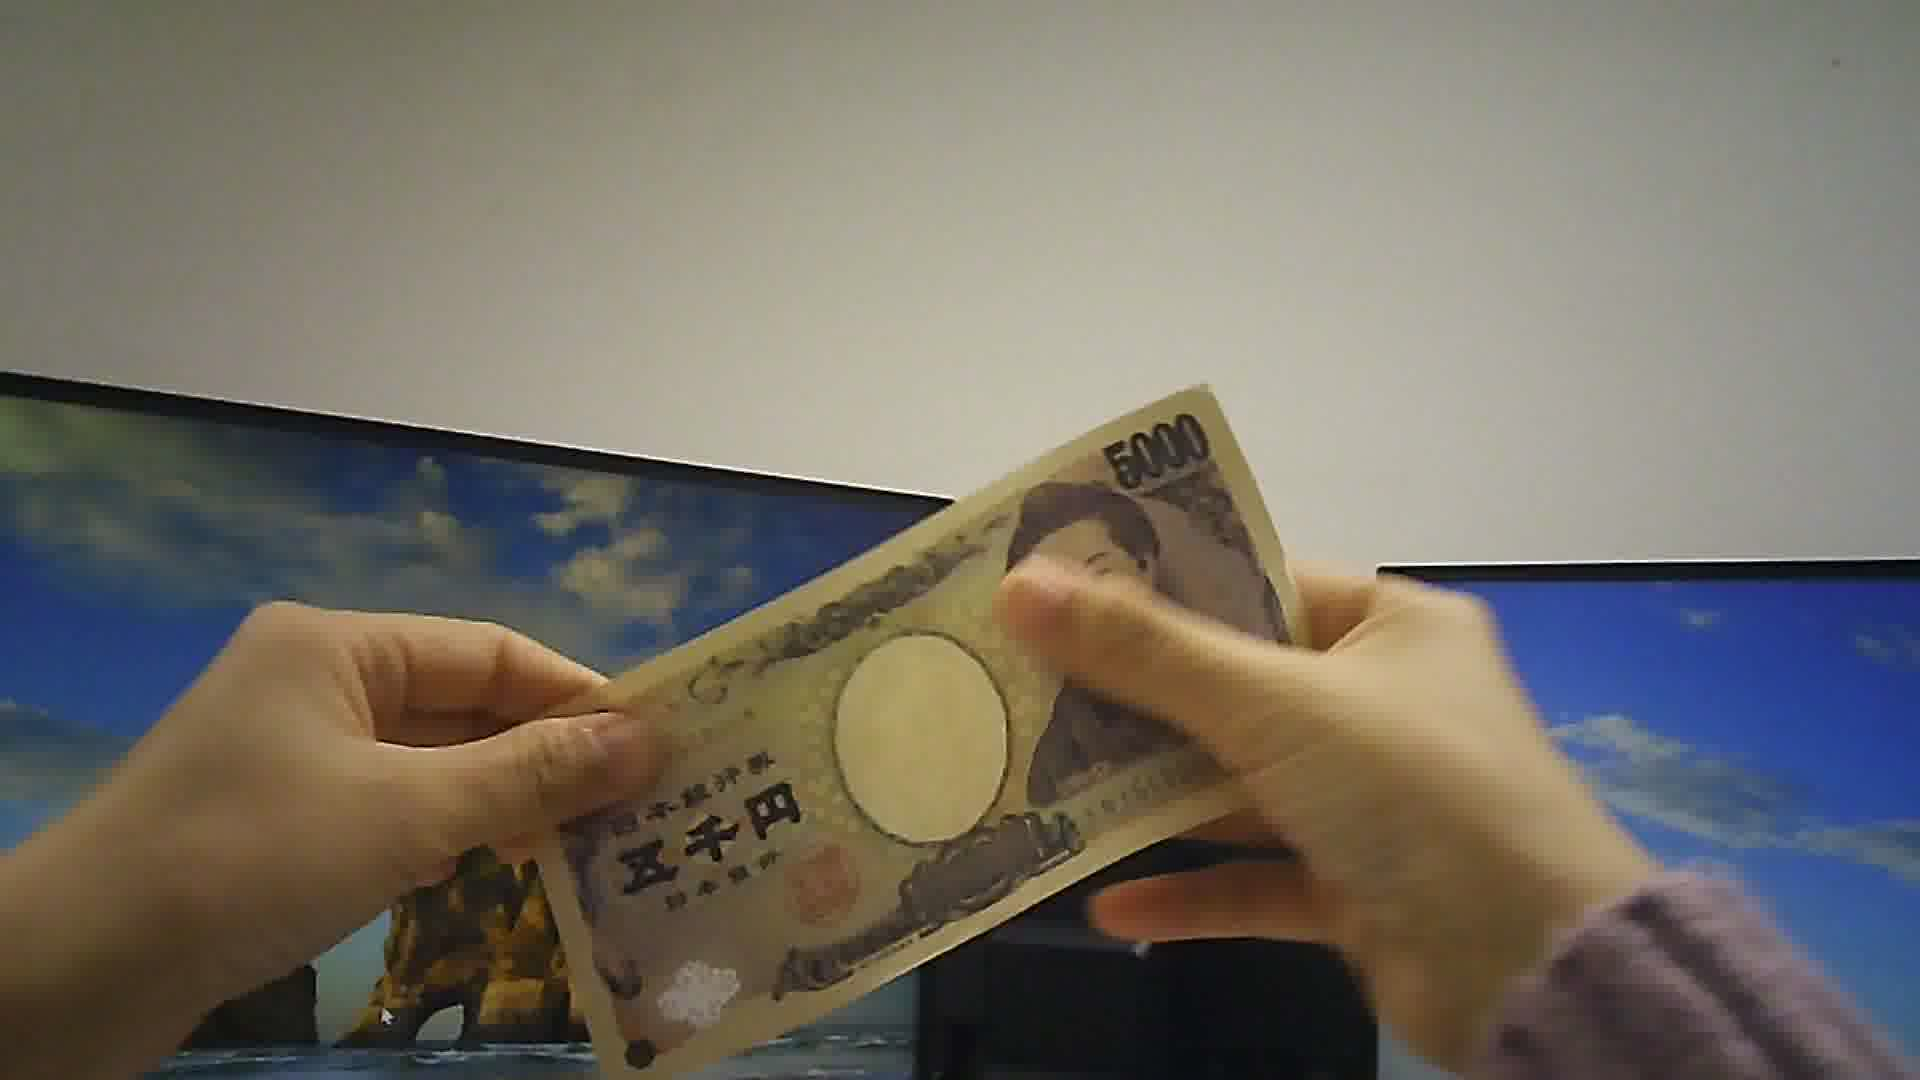5,000 Yen: (444, 343, 1325, 1046)
